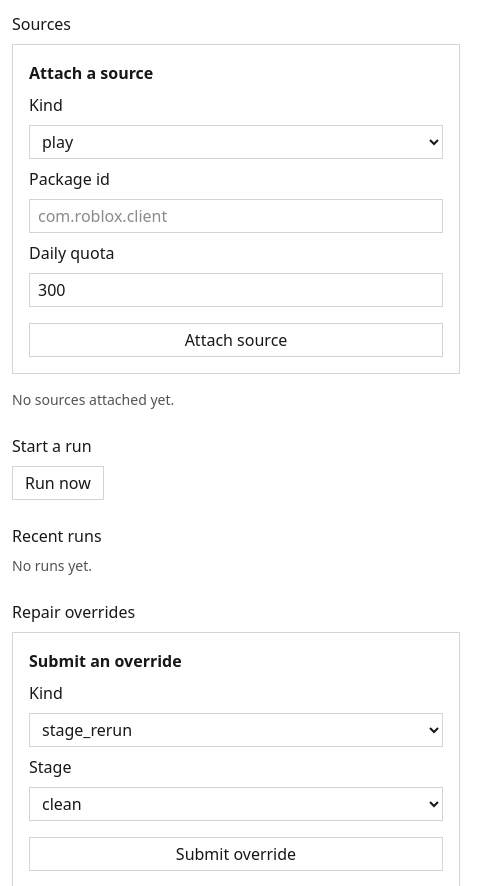
Test case: attaching a source › shows the API's field-naming rejection instead of clearing the form
The image size is (477, 886).
In the field labelled "Package id": (236, 216) [29, 199, 443, 233], type "not-a-package"
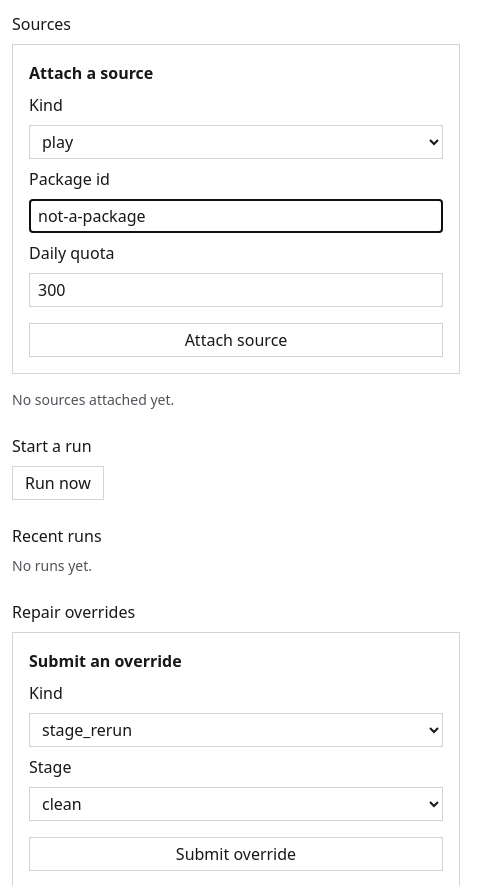
Click the button "Attach source": (236, 340) [29, 323, 443, 357]
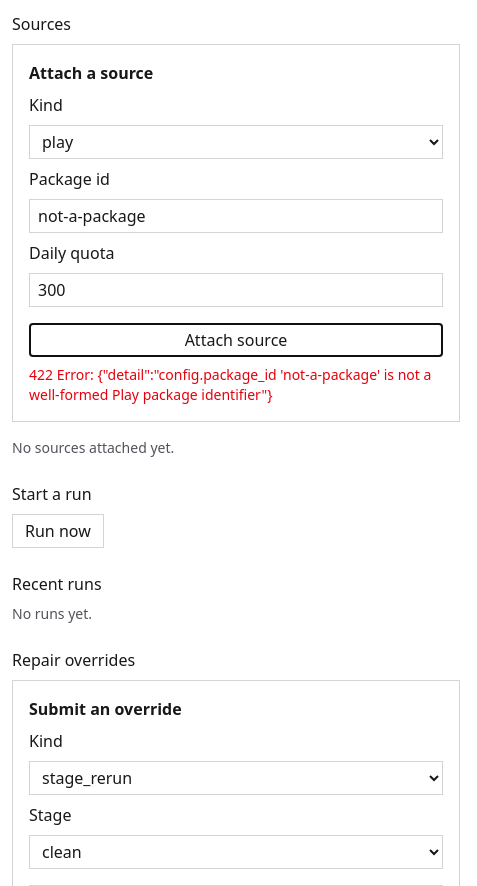
expect the message shows "is not a well-formed Play package identifier": met, box [29, 365, 431, 404]
